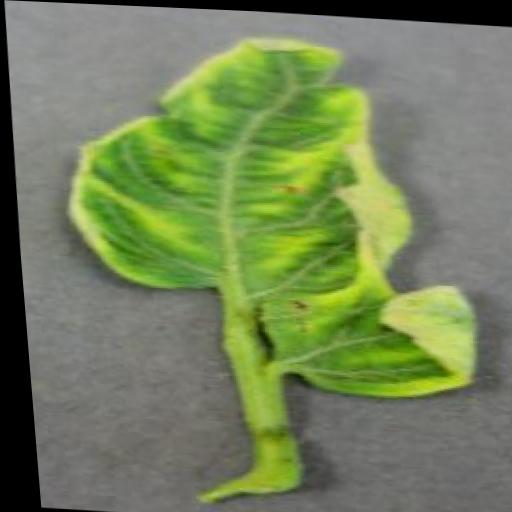Yellow Leaf Curl Virus: (48, 21, 479, 402)
